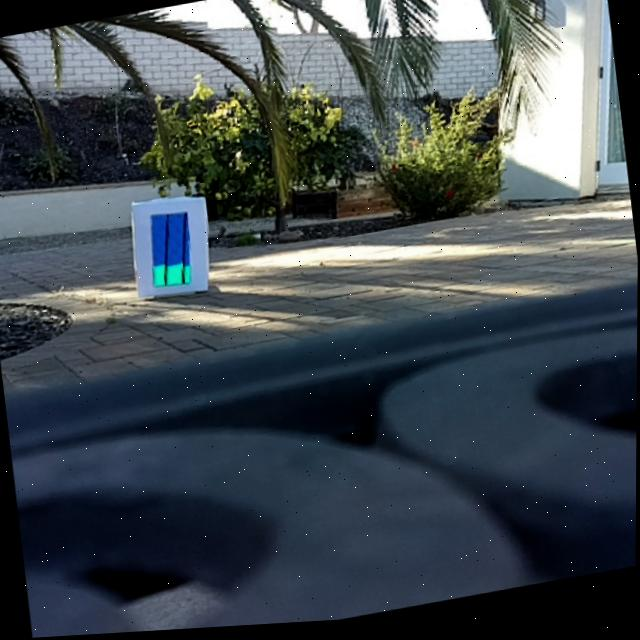led: (145, 209, 198, 295)
